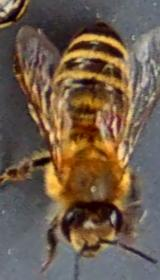varroa_mite: (96, 104, 126, 138)
